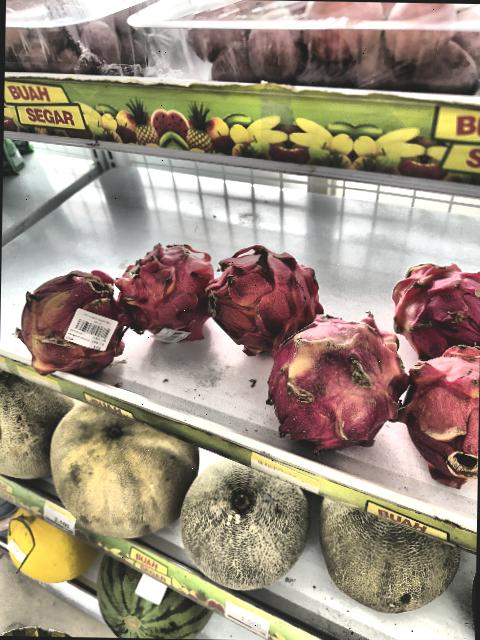buah-naga-belum-matang: (268, 306, 410, 456), (15, 274, 131, 374)
buah-naga-matang: (207, 241, 318, 354), (394, 334, 480, 479), (391, 251, 480, 365), (114, 243, 211, 342)
